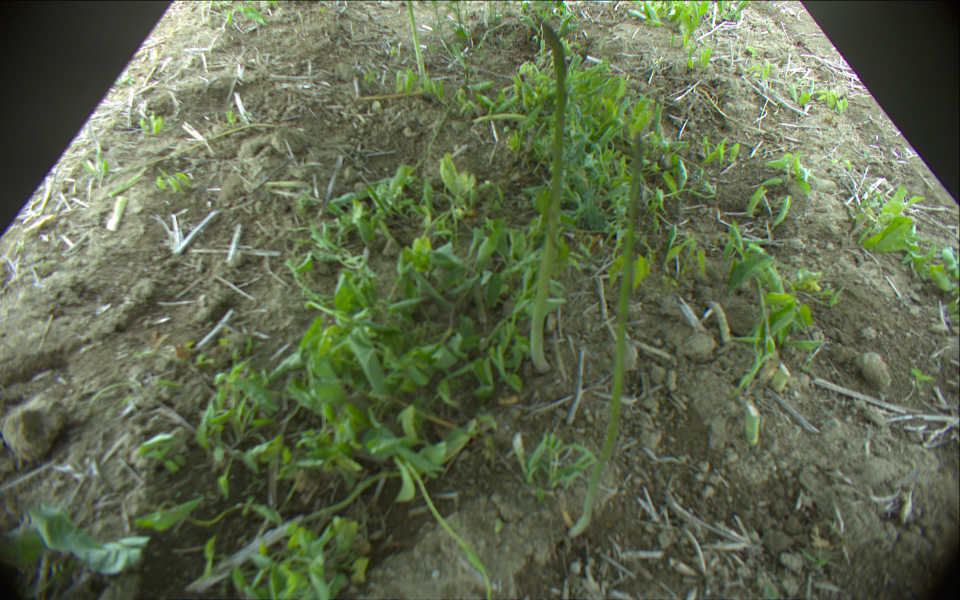aspa: (564, 130, 644, 539), (528, 22, 568, 377), (405, 1, 428, 77), (739, 400, 759, 446), (771, 364, 790, 393)
